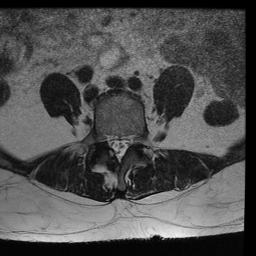CCS_normal: (115, 125, 122, 168)
LFS_normal: (130, 124, 139, 152)
LLS_normal: (122, 125, 130, 157)
RFS_normal: (98, 122, 106, 150)
RLS_normal: (106, 124, 115, 156)
